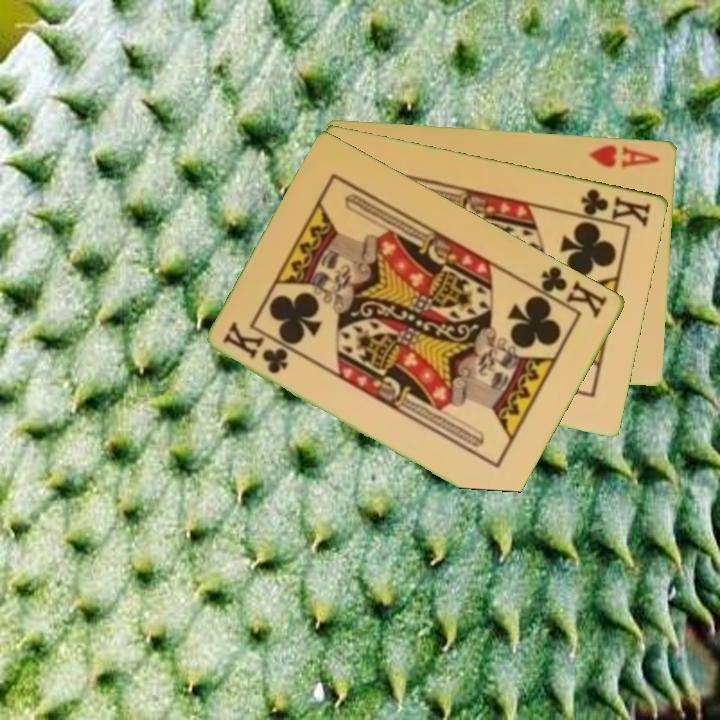Ah: (585, 141, 662, 171)
Kc: (529, 262, 611, 321), (219, 319, 292, 377), (570, 185, 654, 229)
